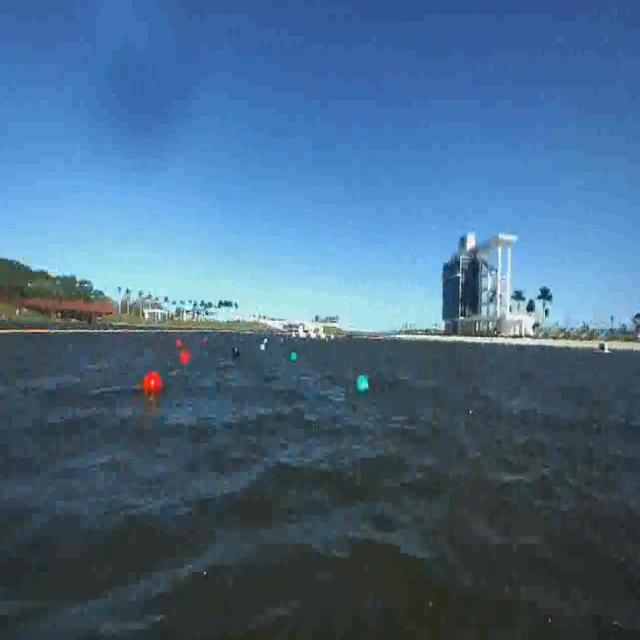black-buoy: (229, 340, 239, 354)
green-buoy: (356, 376, 369, 396), (290, 348, 296, 362)
red-buoy: (144, 370, 162, 394), (180, 348, 190, 364)
